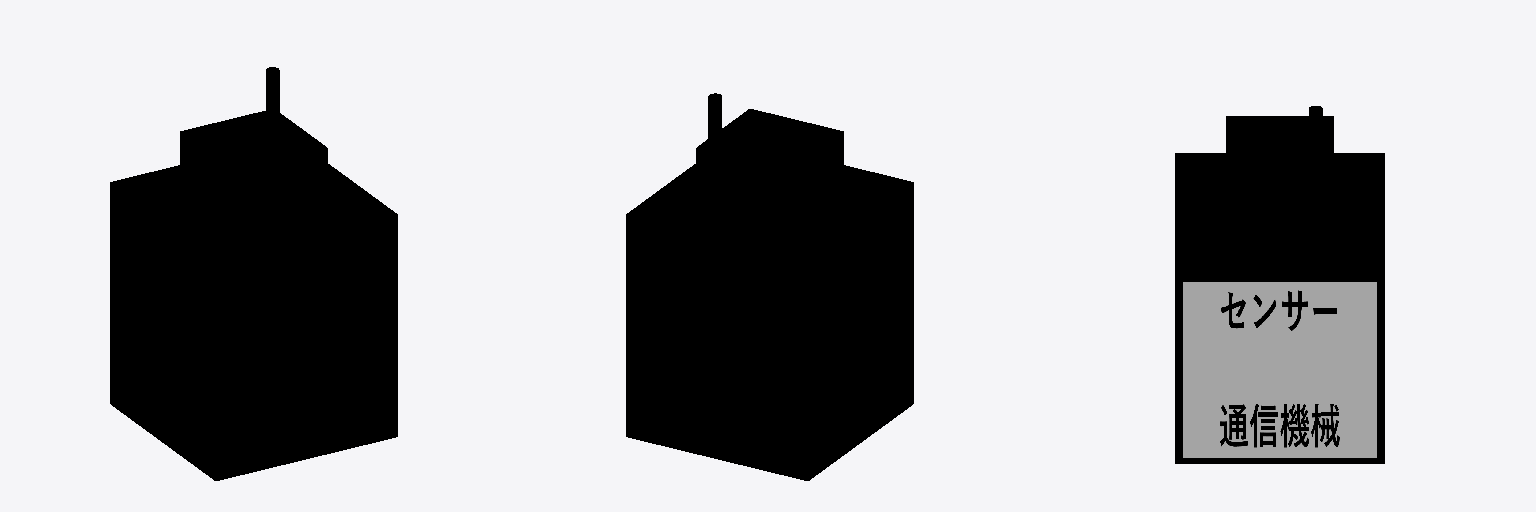
3 renders of one model, left to right at view 1: azimuth 30°, elevation 25°; view 2: azimuth 150°, elevation 25°; view 3: azimuth 270°, elevation 25°, orthographic.
Visible parts, largest first — view 1: sansa_hontai_平面.002, sensa_antena_円柱.001; view 2: sansa_hontai_平面.002, sensa_antena_円柱.001; view 3: sansa_hontai_平面.002, sensa_setumei_平面.001, sensa_antena_円柱.001.
Part boxes in pixels (left/top/right/bottom): sansa_hontai_平面.002: left=110, top=111, right=397, bottom=480; sensa_antena_円柱.001: left=266, top=67, right=279, bottom=120; sansa_hontai_平面.002: left=626, top=109, right=913, bottom=480; sensa_antena_円柱.001: left=708, top=93, right=721, bottom=146; sansa_hontai_平面.002: left=1175, top=116, right=1384, bottom=463; sensa_setumei_平面.001: left=1183, top=282, right=1376, bottom=457; sensa_antena_円柱.001: left=1309, top=106, right=1322, bottom=158.
Size of the model in its own units: 0.6298 by 1.06 by 0.6185.
Materials: 2 (1 with a texture image).